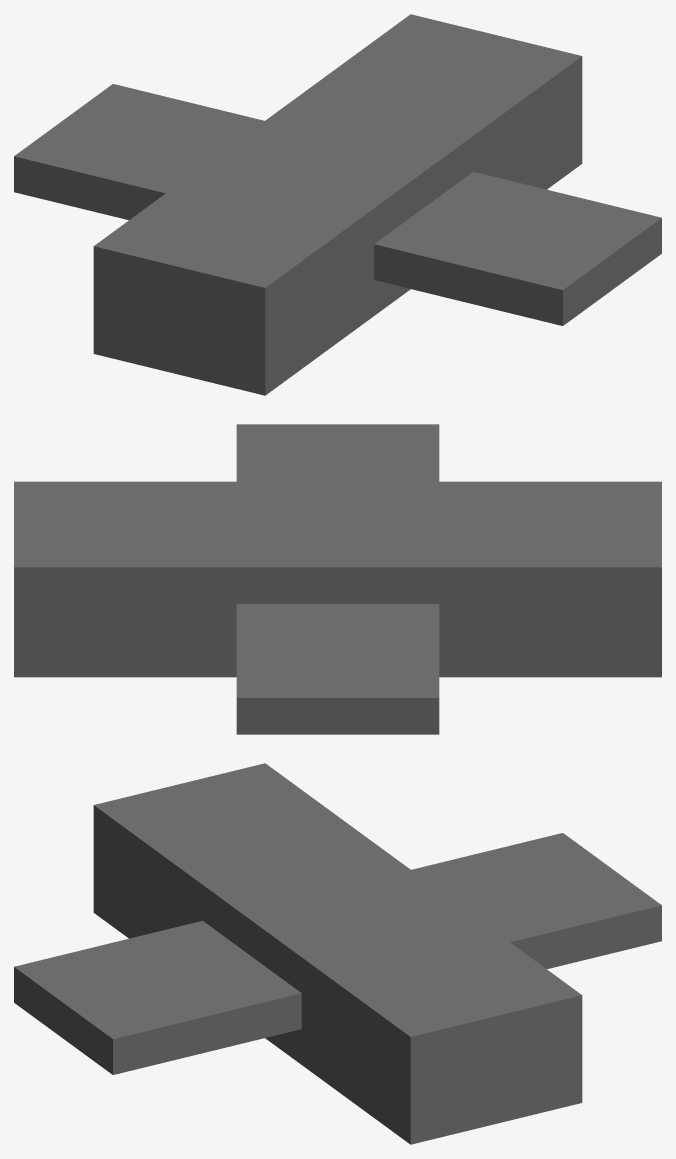
File: Shuriken.obj
3 views of the same model, one above another, from view 1: azimuth 30°, elevation 25°; view 2: azimuth 150°, elevation 25°; view 3: azimuth 270°, elevation 25° (orthographic). The views are drawn at different scales.
Visible parts, largest first — view 1: cube; view 2: cube; view 3: cube.
Part boxes in pixels (x1,y1,x2,y2): cube: (14,14,661,395); cube: (14,424,661,734); cube: (14,763,661,1144).
Bounding box in the file's own units: 0.1278 × 0.0234 × 0.1278.
